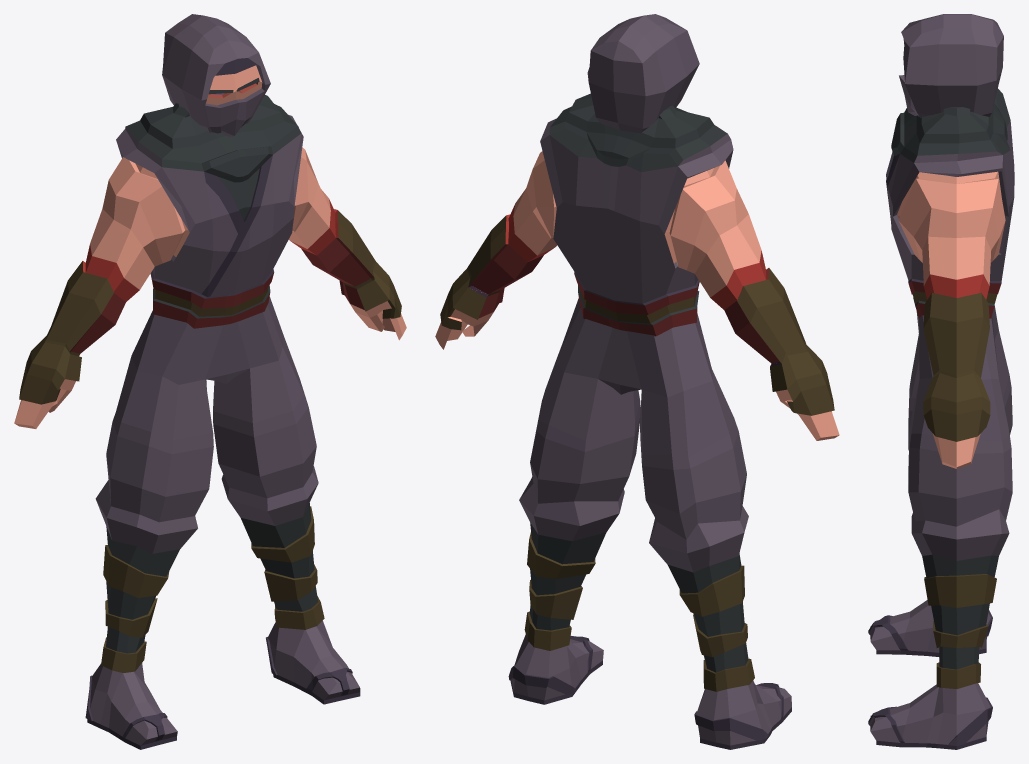
File: Ninja.fbx
The picture shows the model from 3 angles, left to right: view 1: azimuth 30°, elevation 25°; view 2: azimuth 150°, elevation 25°; view 3: azimuth 270°, elevation 25°; orthographic projection. The views are drawn at different scales.
Visible parts, largest first — view 1: Body; view 2: Body; view 3: Body.
Boxes of the visible parts, box(x1,y1,x2,y2) form: Body: box(14, 14, 406, 749); Body: box(435, 14, 839, 749); Body: box(868, 14, 1014, 749).
Size of the model in its own units: 280 by 460 by 89.87.
1 material, 1 textured.
